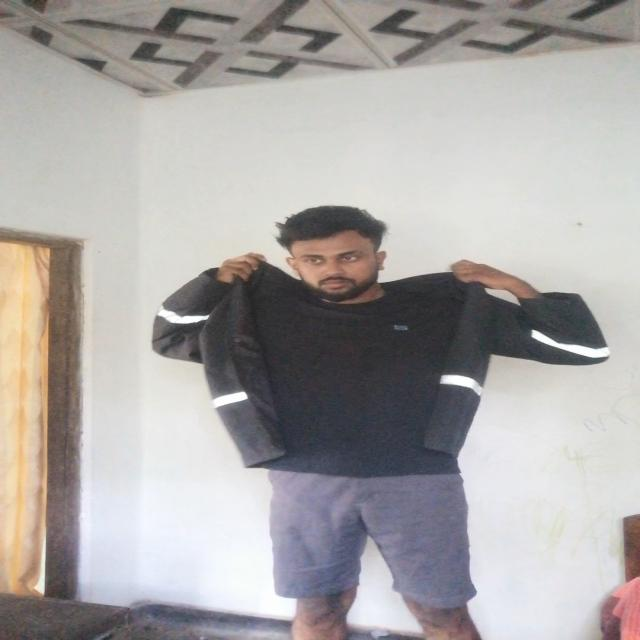Jacket_Wearer: (156, 254, 608, 476)
